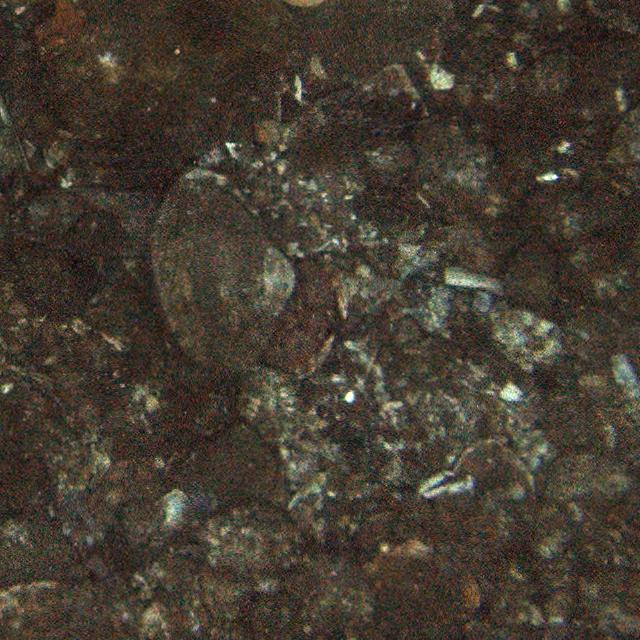crab: (267, 255, 352, 381)
